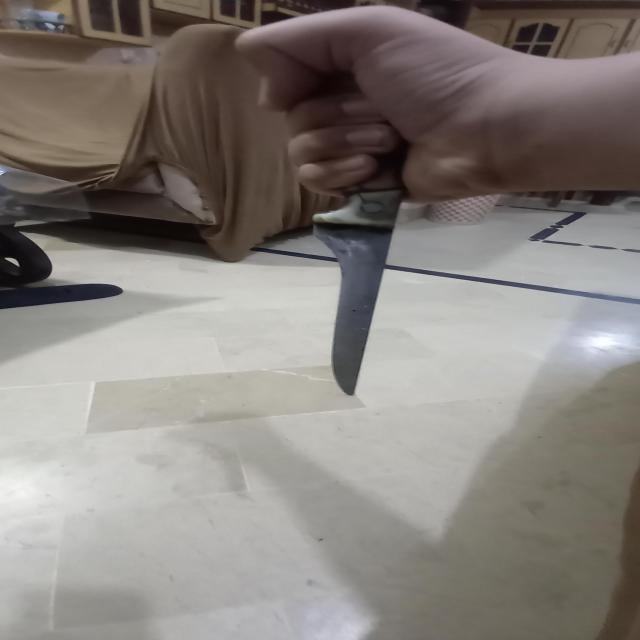Knife: (314, 129, 413, 394)
Person: (232, 6, 640, 204)
